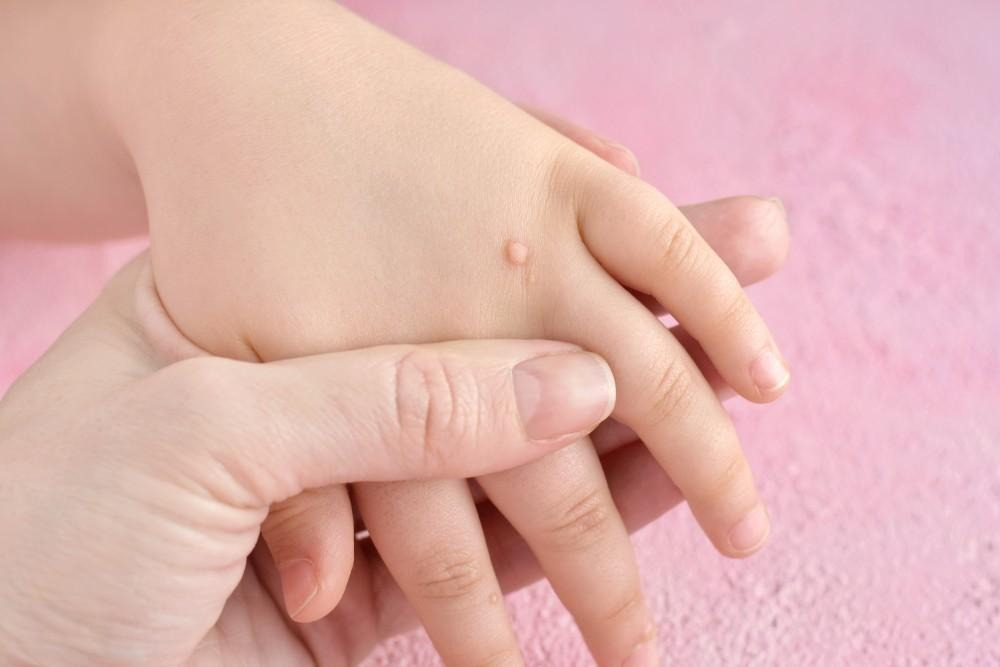Warts: (485, 224, 556, 290)
